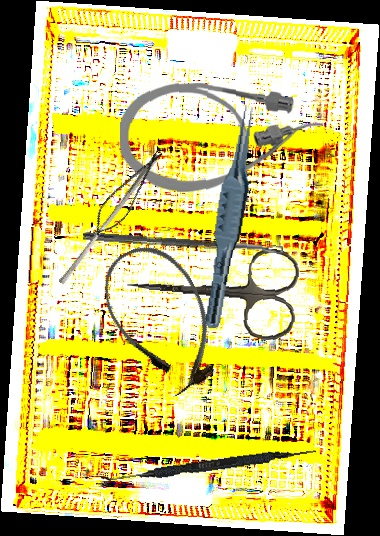Cannula: (88, 232, 236, 406), (118, 80, 324, 197)
Iris Scissors: (123, 236, 301, 344)
Micro Scissor: (85, 143, 170, 243)
Pusher: (58, 150, 160, 288)
Spatula Surgical: (100, 442, 317, 489)
Surgical Spoon: (82, 232, 284, 255)
Tissue Forceps: (202, 103, 261, 331)
